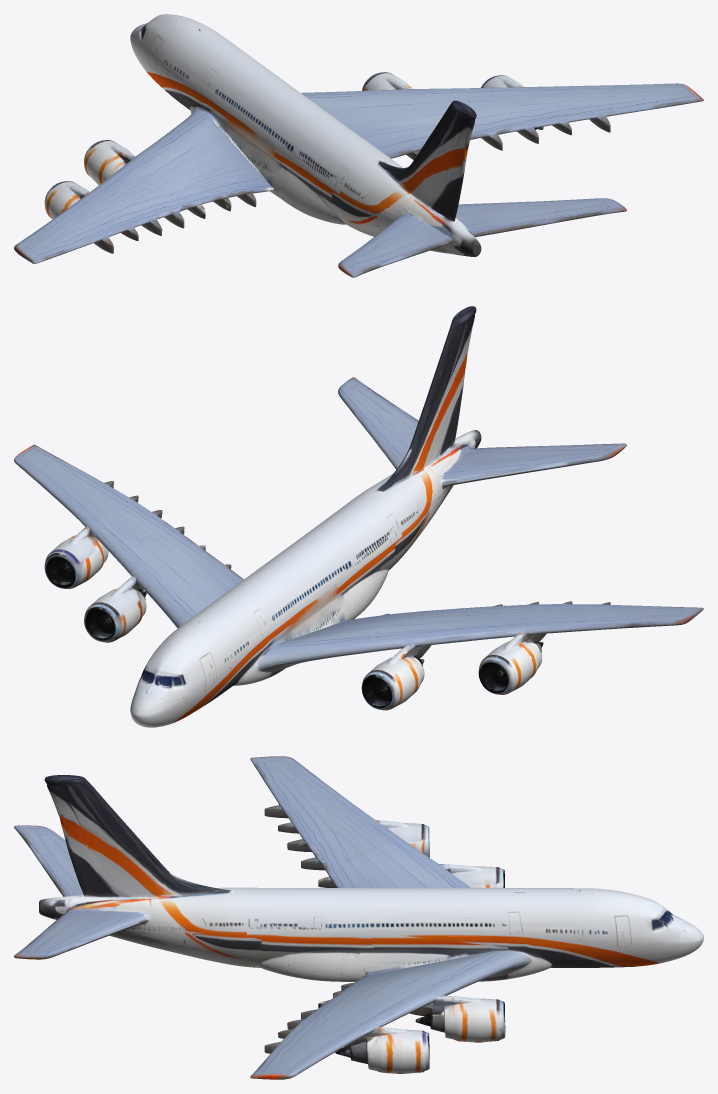
The model's file is airbus-a380.glb.
3 renders of one model, top to bottom at view 1: azimuth 30°, elevation 25°; view 2: azimuth 150°, elevation 25°; view 3: azimuth 270°, elevation 25°, orthographic. The views are drawn at different scales.
Parts seen in each view (by area): view 1: airbus-a380-airframe; view 2: airbus-a380-airframe; view 3: airbus-a380-airframe.
Part boxes in pixels (box(x1,y1,x2,y2)): airbus-a380-airframe: box(14, 14, 703, 277); airbus-a380-airframe: box(14, 306, 703, 727); airbus-a380-airframe: box(14, 756, 703, 1079).
Bounding box in the file's own units: 80 × 23.08 × 73.02.
Materials: 1 (1 with a texture image).
